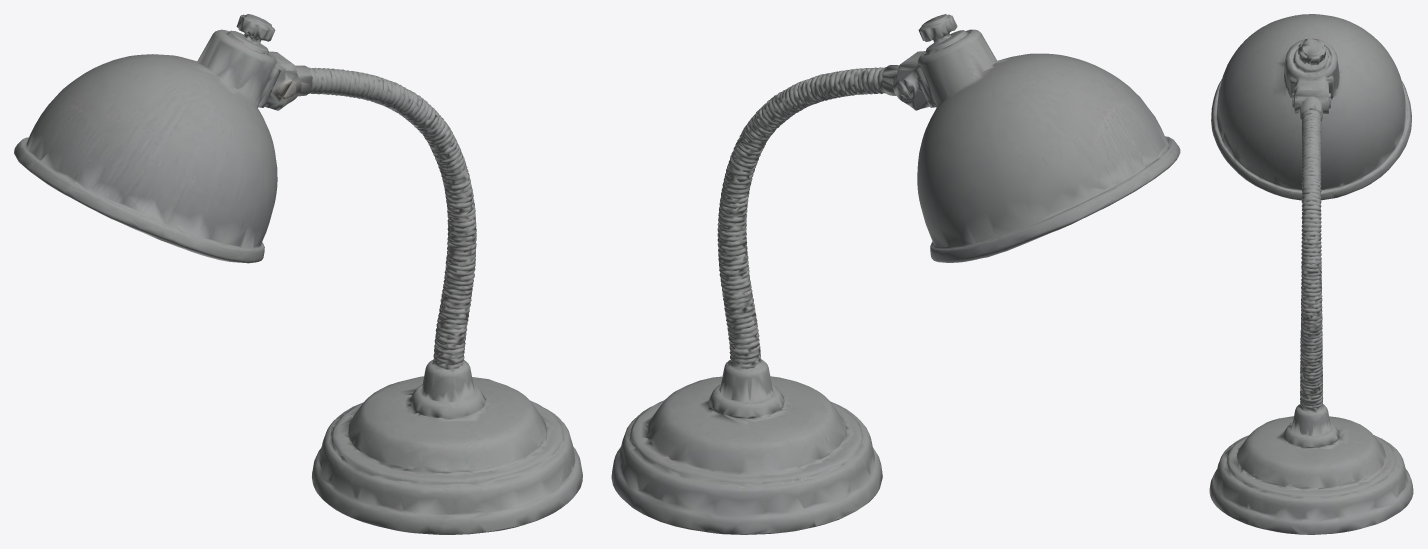
Rendered from lamp.glb.
3 renders of one model, left to right at view 1: azimuth 30°, elevation 25°; view 2: azimuth 150°, elevation 25°; view 3: azimuth 270°, elevation 25°, orthographic. The views are drawn at different scales.
Bounding box in the file's own units: 1.9 × 1.74 × 0.8467.
1 material, 1 textured.
